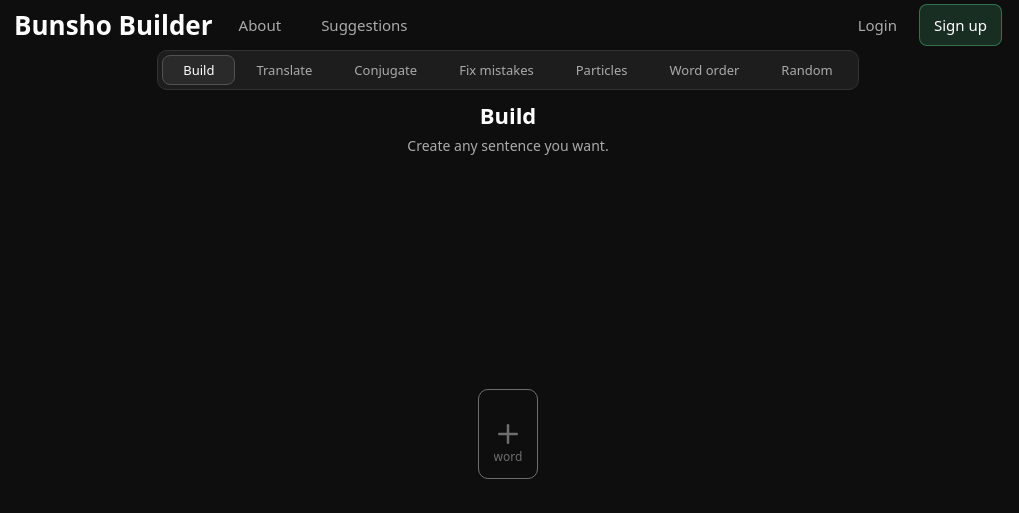
Scenario: sends an anonymous suggestion
The width and height of the screenshot is (1019, 513).
Click the link "Suggestions" at (364, 25), box [321,15,408,35]
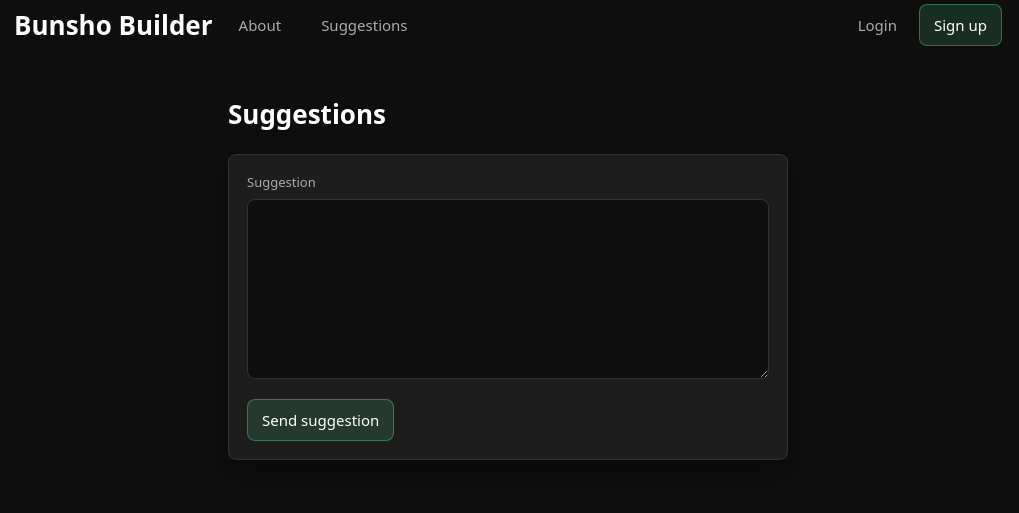
Check: the heading "Suggestions" is shown, box [228,96,386,132]
Type "Please add custom practice lists." into the text box labelled "Suggestion" at (508, 289), box [247,199,769,379]
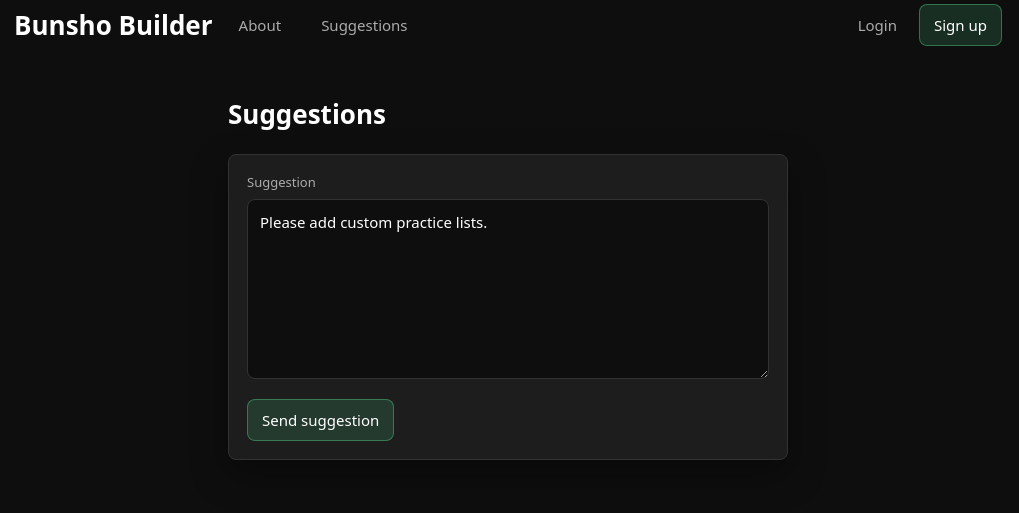
Click the button "Send suggestion" at (321, 420), box [247,399,394,441]
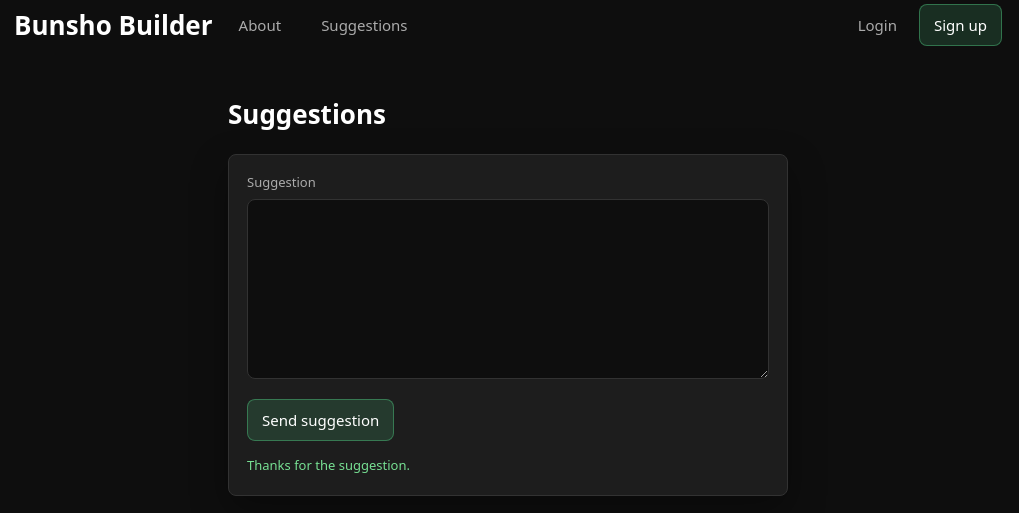
Check: the text "Thanks for the suggestion." is shown, box [247,456,410,474]
Check: the text box labelled "Suggestion" is empty, box [247,199,769,379]
